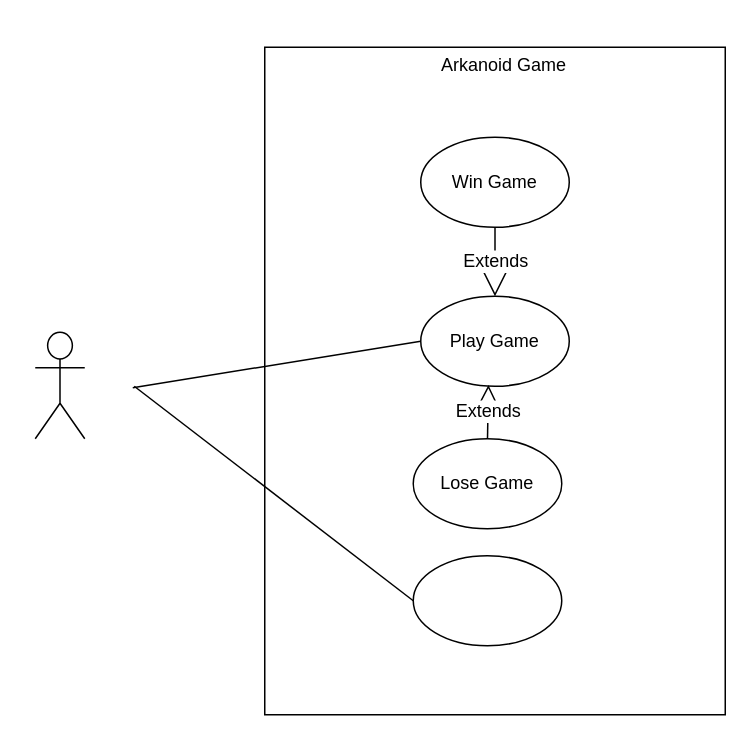
This 752x741 diagram has some shape labels left out. The box of each missing label's shape, as (x1, y1, x2, y2) in pixels:
Restart Game: (412, 554, 562, 646)
Гравець: (34, 331, 85, 439)
